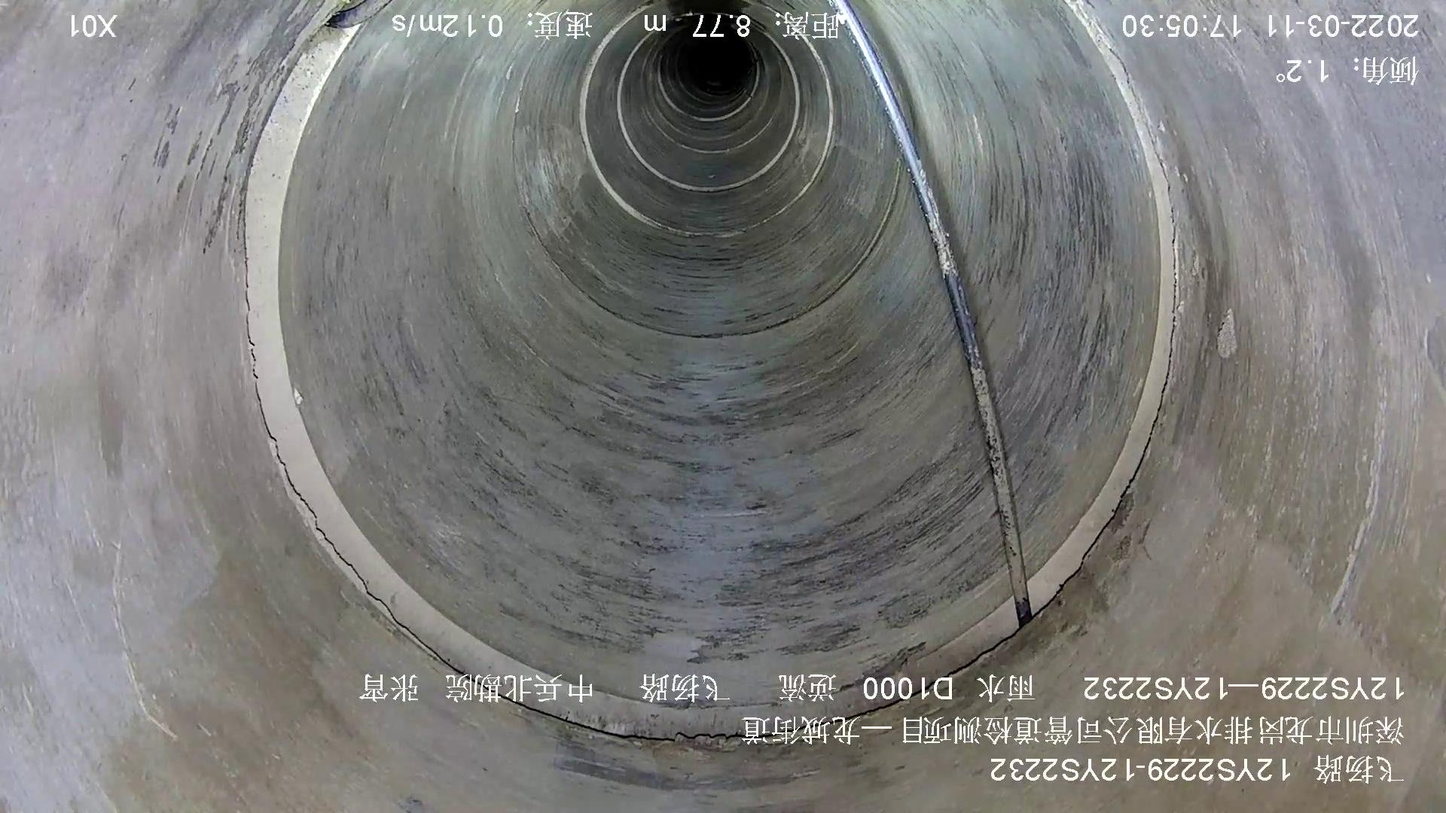CKTJ: (233, 1, 1191, 754)
YWCR: (831, 1, 1032, 628)
